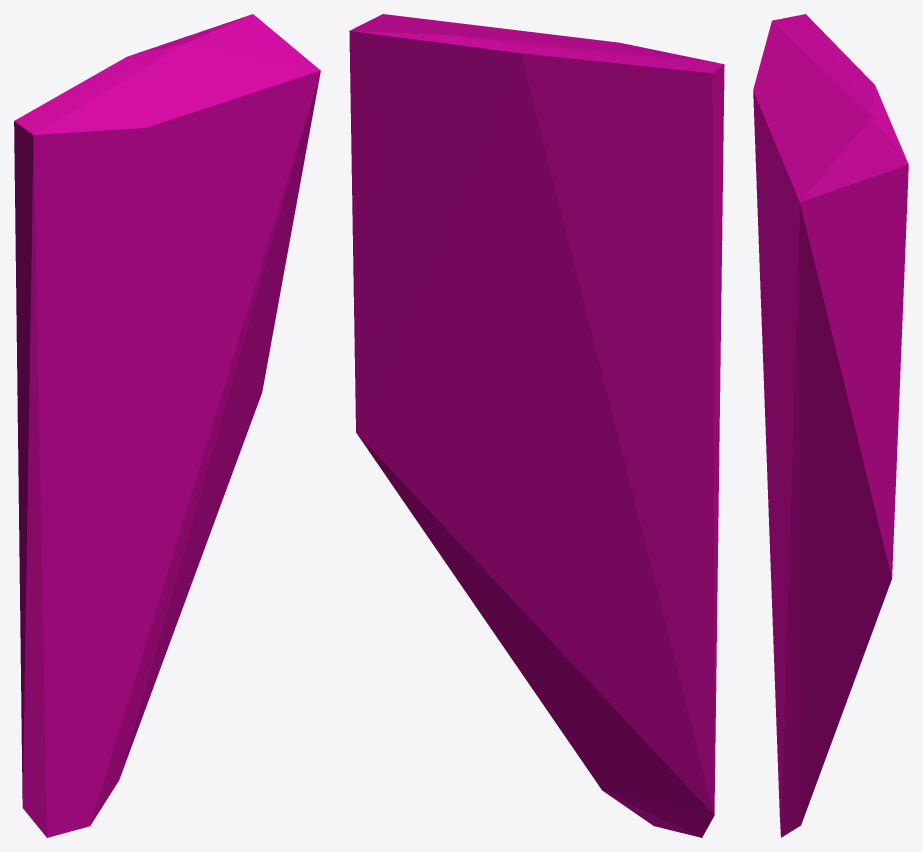
The model's file is arm-L4_convex_piece_019.obj.
3 views of the same model, side by side, from view 1: azimuth 30°, elevation 25°; view 2: azimuth 150°, elevation 25°; view 3: azimuth 270°, elevation 25° (orthographic). The views are drawn at different scales.
Size of the model in its own units: 0.0342 by 0.0775 by 0.0137.
